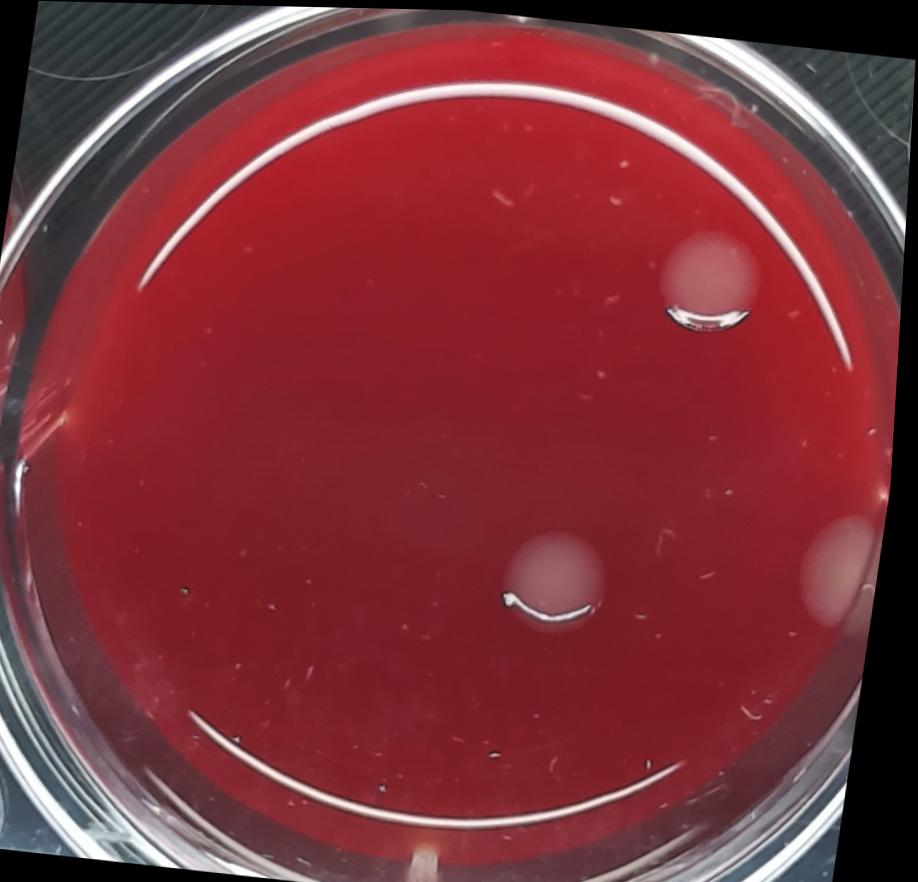vharveyi: (490, 513, 626, 641), (649, 219, 775, 344), (796, 493, 893, 634)
